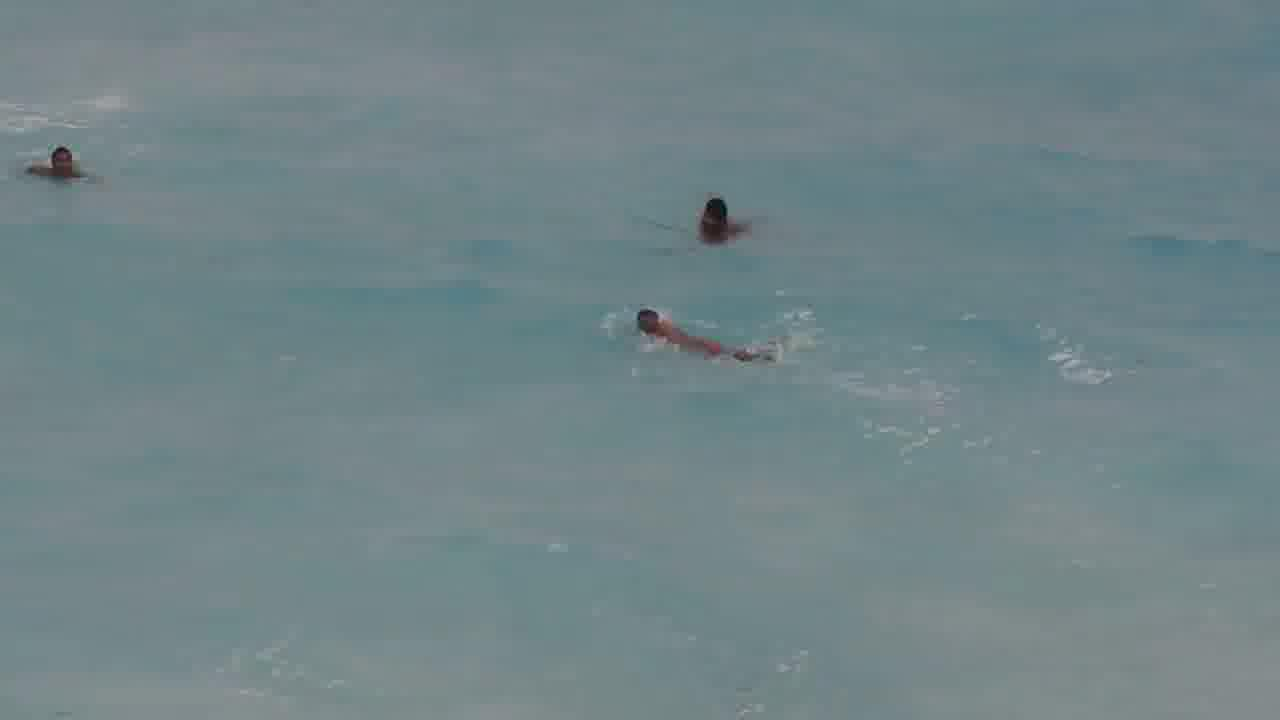human: (626, 296, 781, 366), (686, 190, 752, 243), (20, 143, 104, 184)
